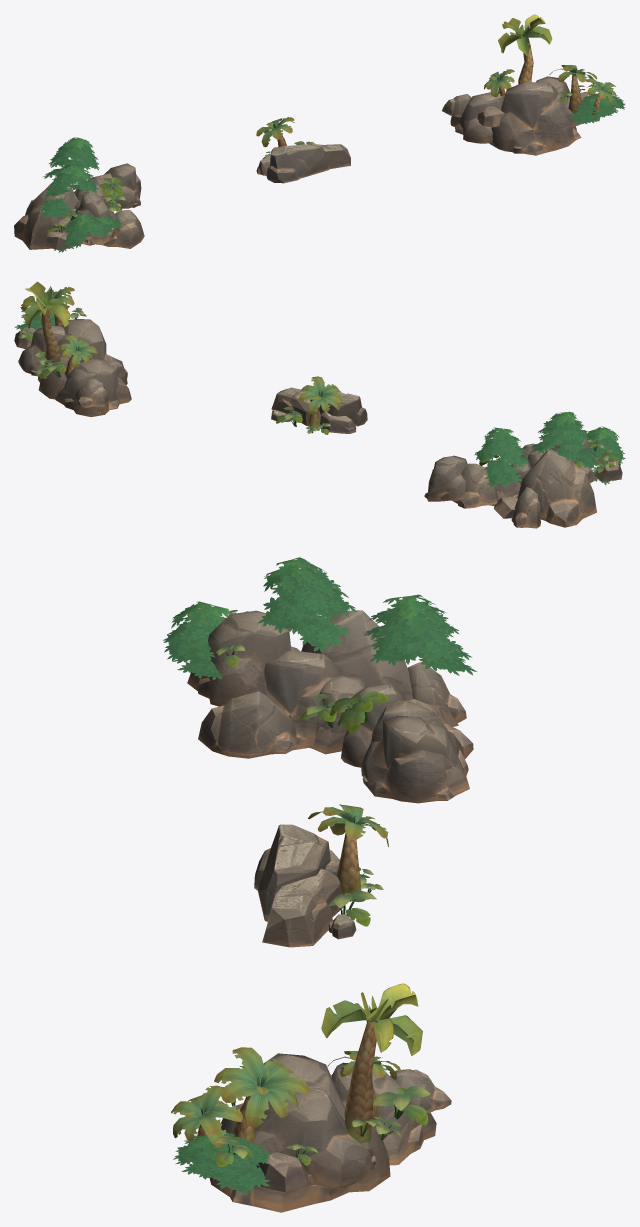
File: pref_sm_4v4pointbake_CSD_X_lv1.fbx
The picture shows the model from 3 angles, top to bottom: view 1: azimuth 30°, elevation 25°; view 2: azimuth 150°, elevation 25°; view 3: azimuth 270°, elevation 25°; orthographic projection. The views are drawn at different scales.
Visible parts, largest first — view 1: sm_4v4pointbake_CSD_X_a_lv1, sm_4v4pointbake_CSD_X_a_lv1_1; view 2: sm_4v4pointbake_CSD_X_a_lv1, sm_4v4pointbake_CSD_X_a_lv1_1; view 3: sm_4v4pointbake_CSD_X_a_lv1, sm_4v4pointbake_CSD_X_a_lv1_1.
Part boxes in pixels (bbox=[...]): sm_4v4pointbake_CSD_X_a_lv1: bbox=[14, 76, 595, 249]; sm_4v4pointbake_CSD_X_a_lv1_1: bbox=[38, 14, 625, 252]; sm_4v4pointbake_CSD_X_a_lv1: bbox=[14, 319, 622, 528]; sm_4v4pointbake_CSD_X_a_lv1_1: bbox=[14, 281, 625, 488]; sm_4v4pointbake_CSD_X_a_lv1: bbox=[187, 610, 473, 1212]; sm_4v4pointbake_CSD_X_a_lv1_1: bbox=[163, 557, 476, 1195].
Bounding box in the file's own units: 41.84 × 7.06 × 9.96.
